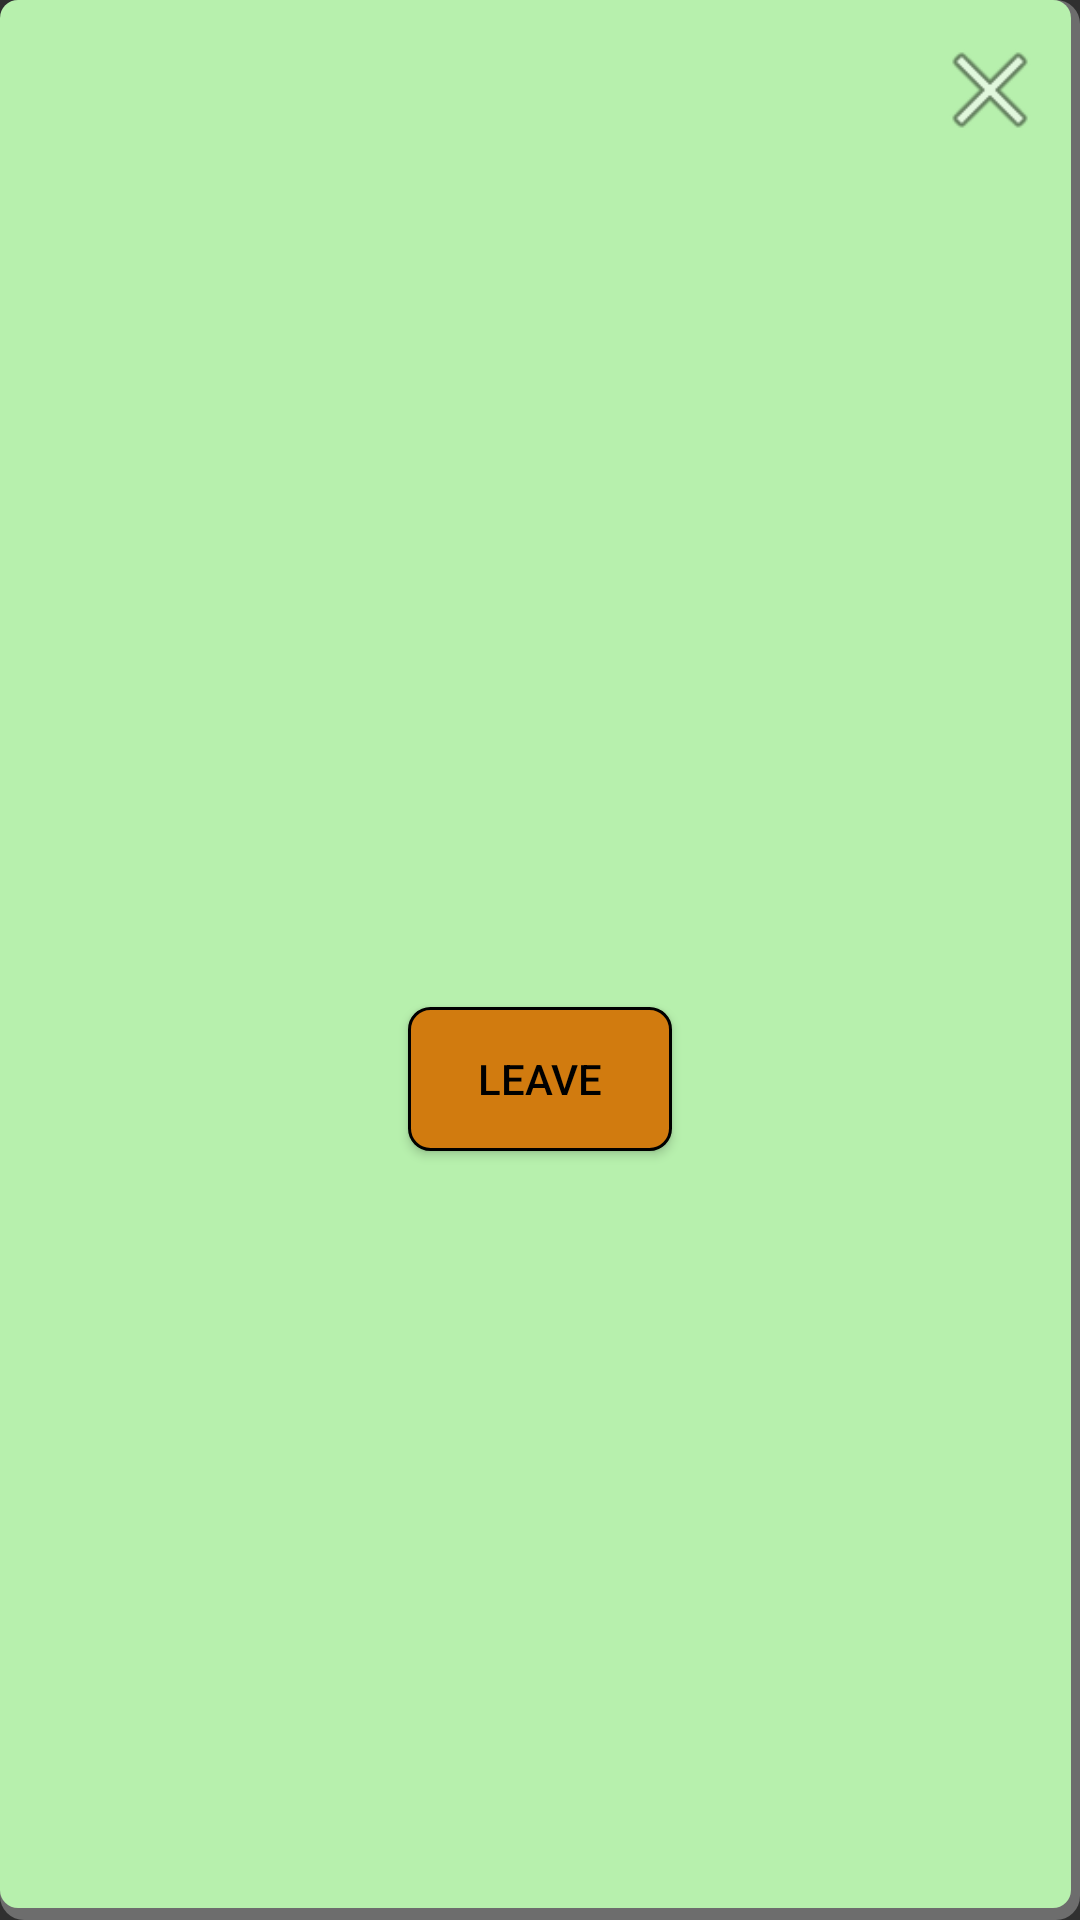

Point at icon controls on the screen. Image size 1080w x 1920h, points as point (x, y).
close clear cancel: point (990, 90)
